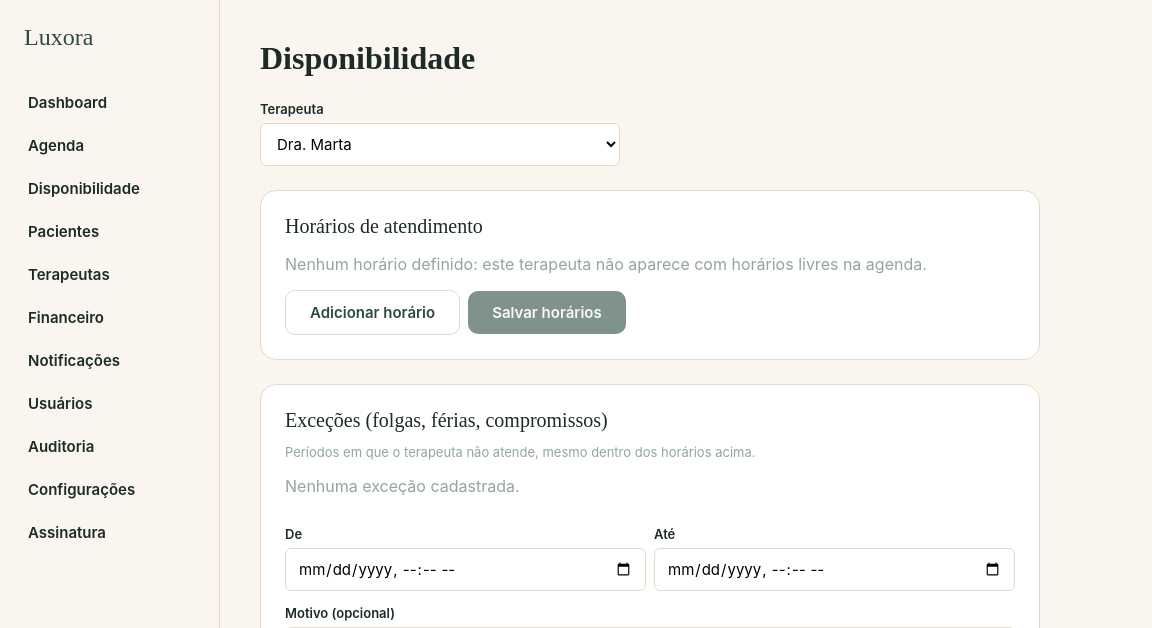
Test case: DisponibilidadePage — exceções › sem permissão (403) na gravação: explica que o perfil não pode
This screenshot has width=1152, height=628.
Type "2031-03-10T08:00" into the field labelled "De" at [466, 570], box x1=285 y1=548 x2=646 y2=591
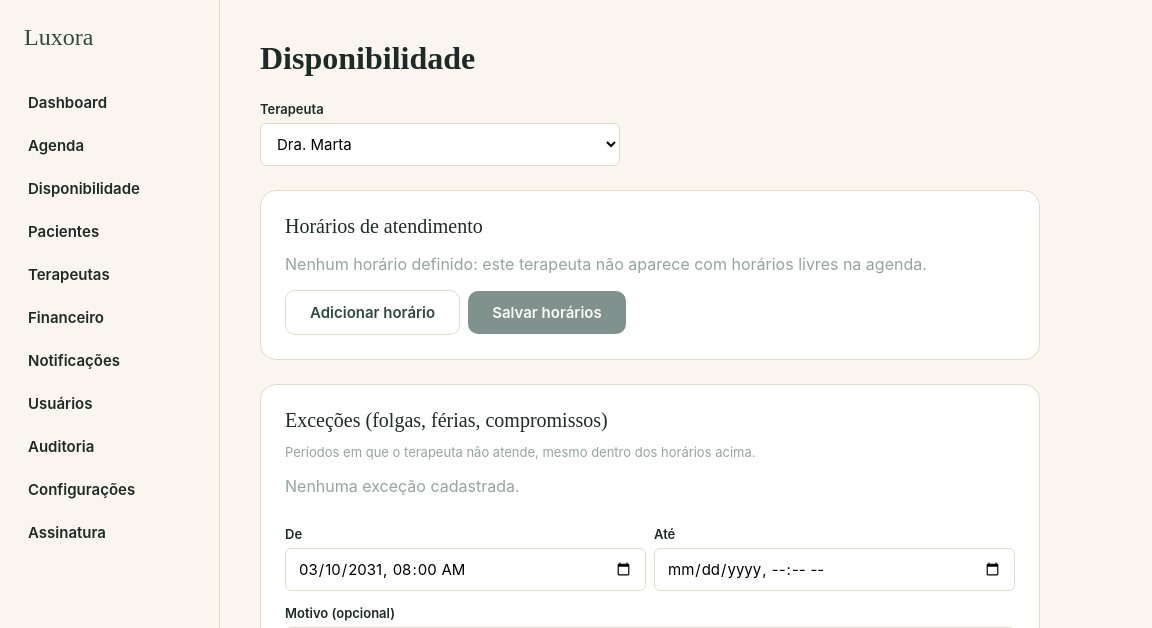
Type "2031-03-10T18:00" into the field labelled "Até" at [834, 570], box x1=654 y1=548 x2=1015 y2=591
(page scrolled)
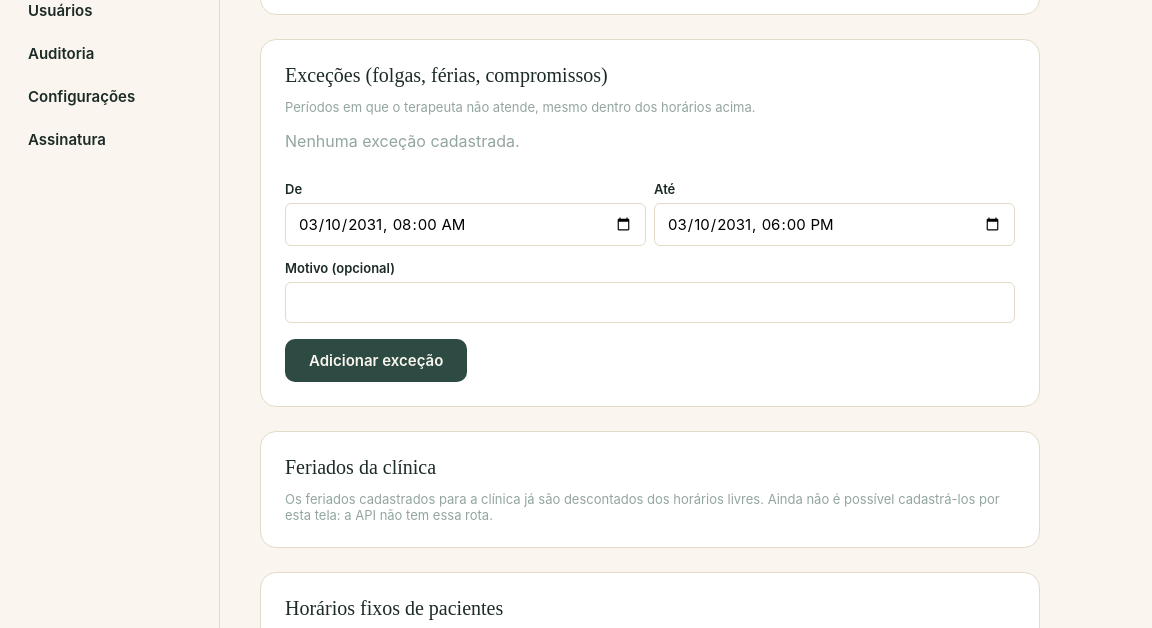
Click the button "Adicionar exceção" at [376, 360], box x1=285 y1=339 x2=467 y2=382
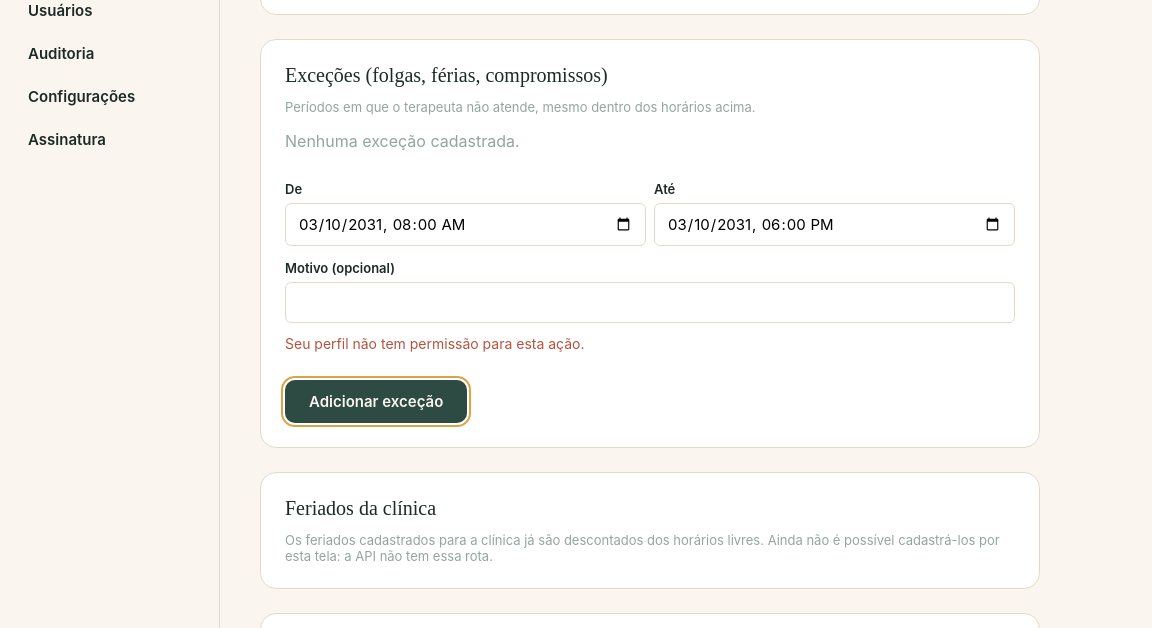
Result: the message shows "perfil não tem permissão" at x1=285 y1=335 x2=584 y2=352
